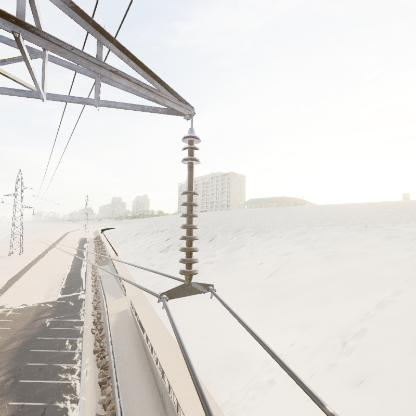insulator: (175, 129, 201, 287)
tower: (1, 166, 38, 258)
